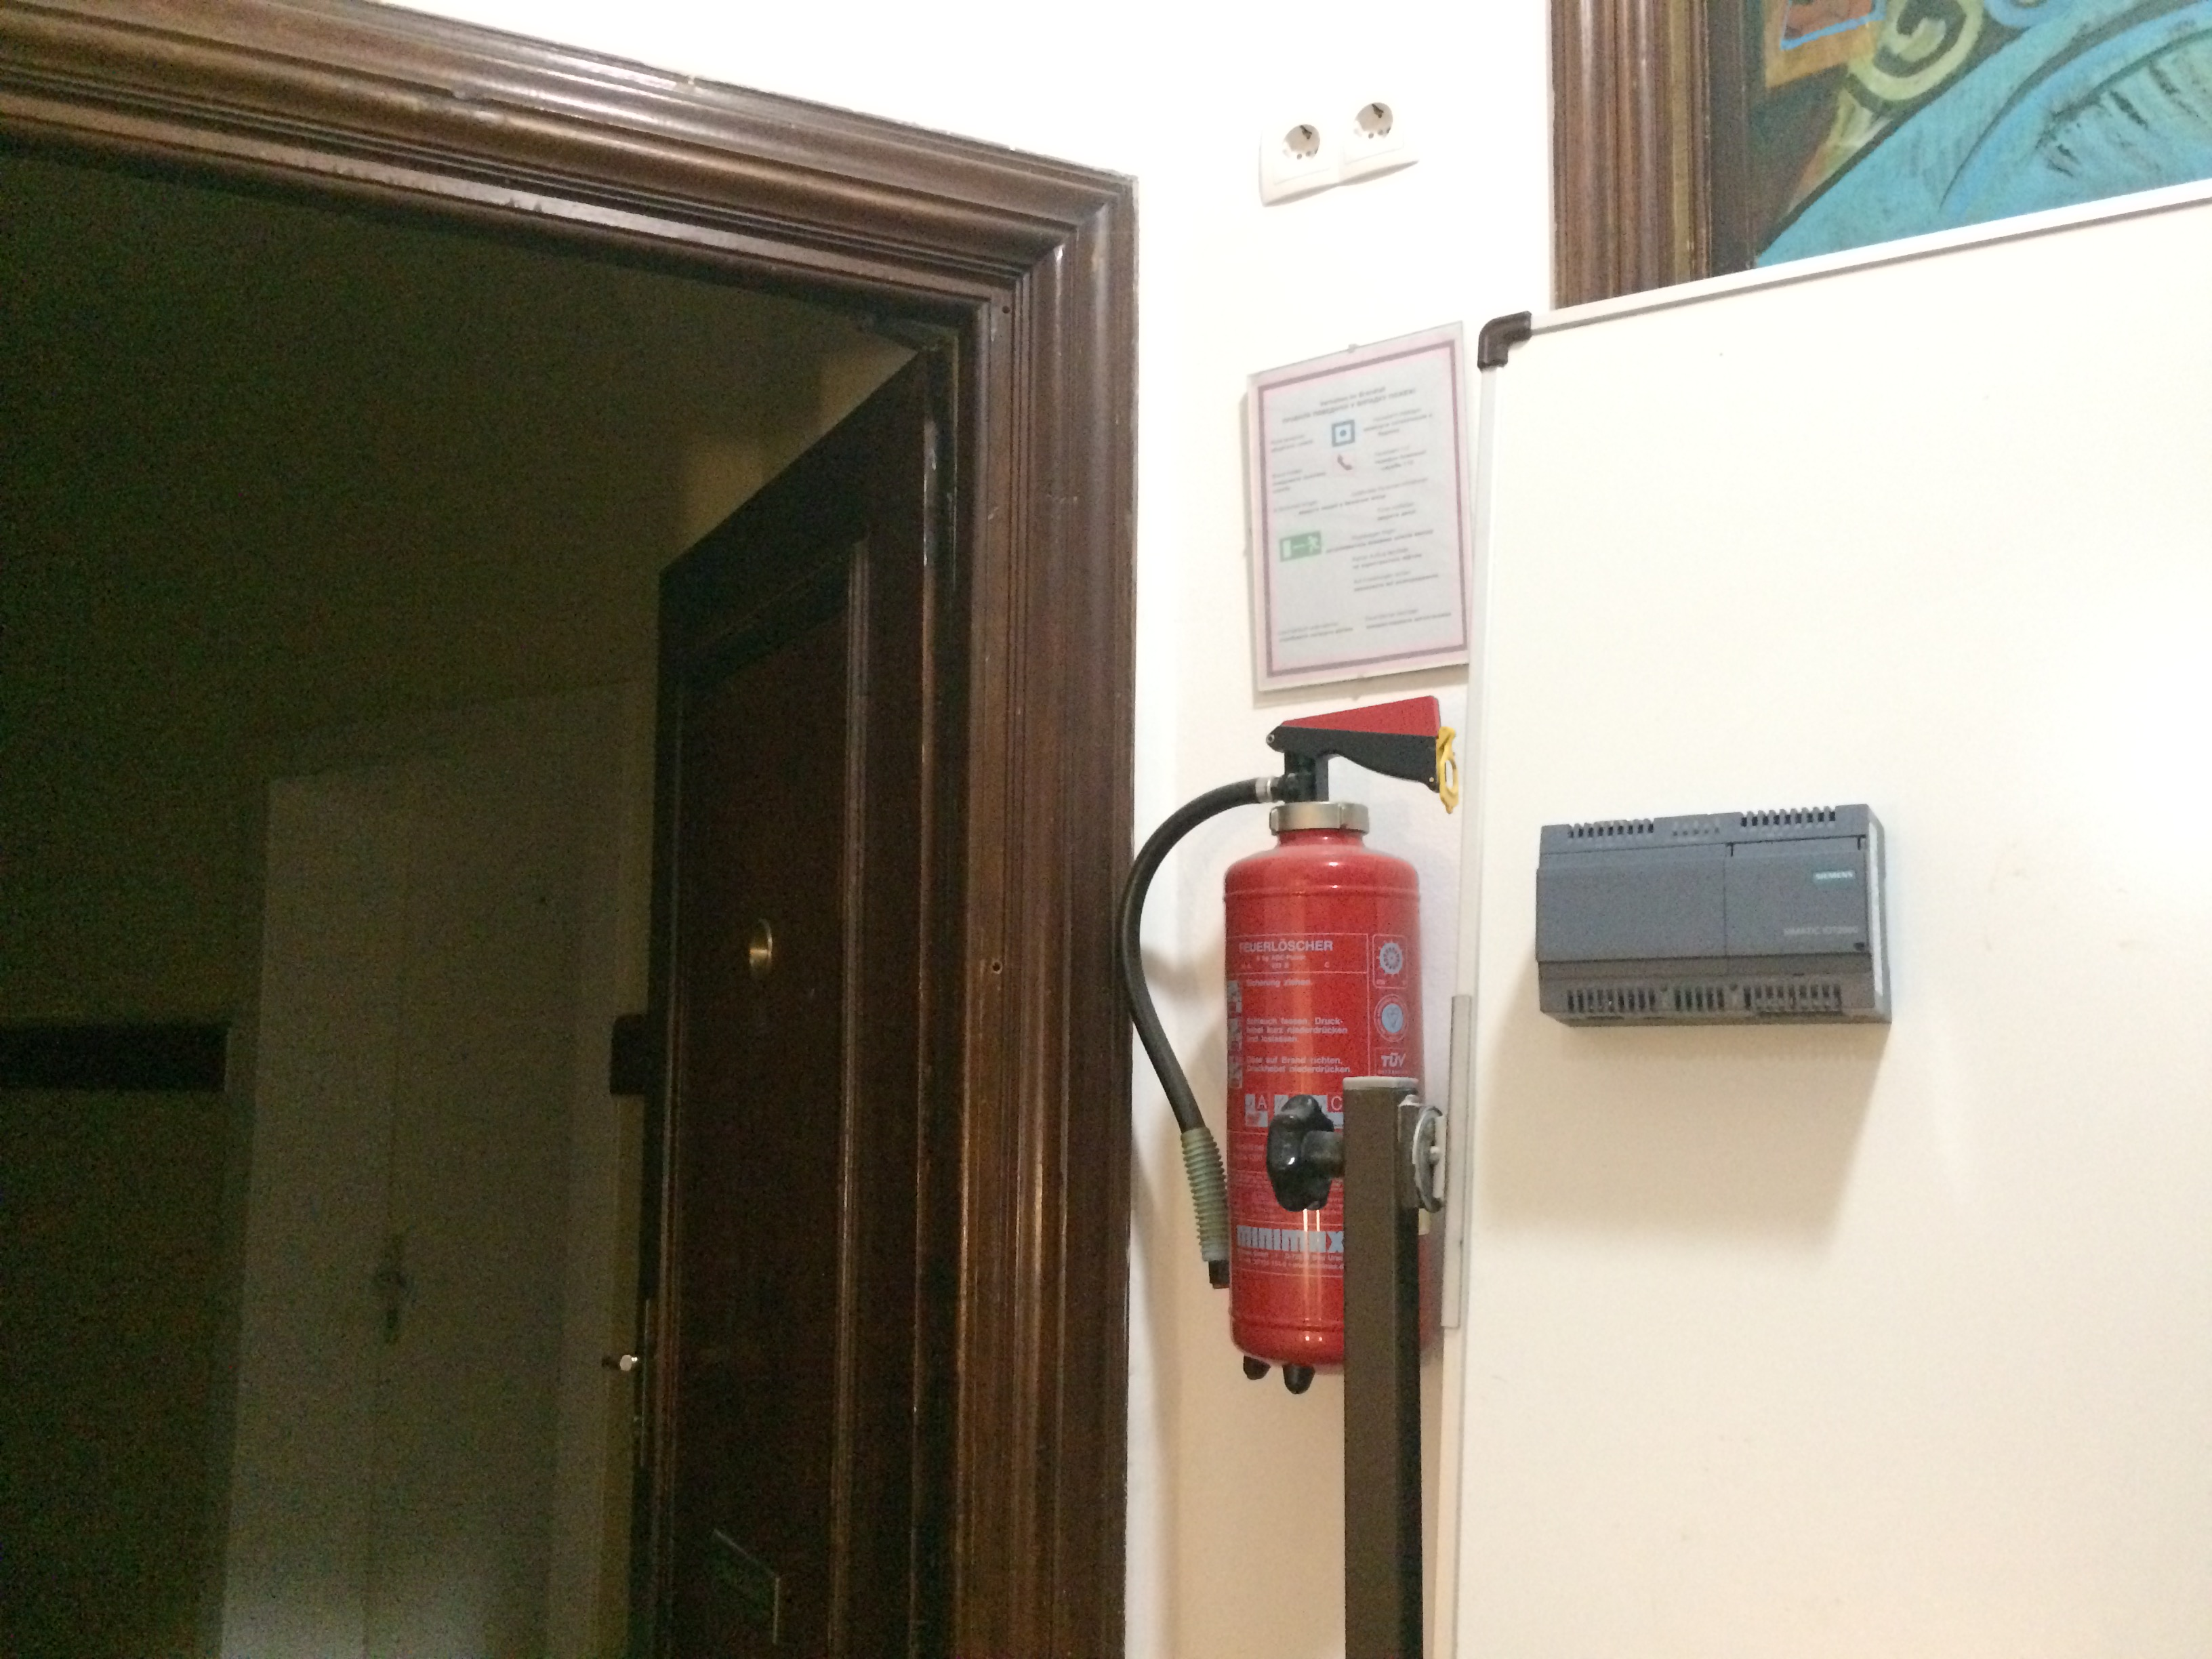iot2000: (1531, 802, 1897, 1032)
